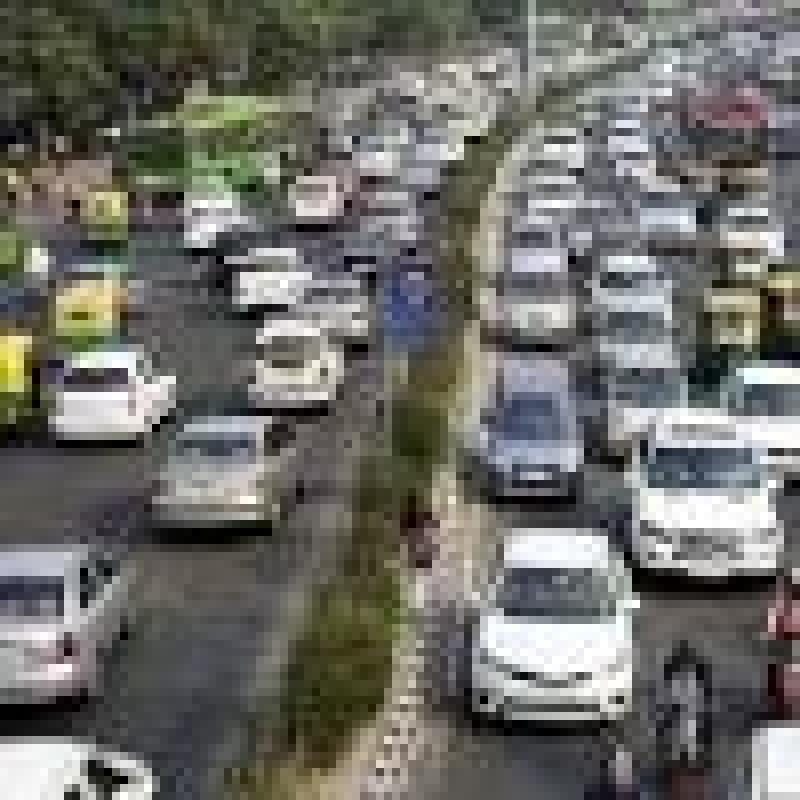bike: (647, 644, 720, 778)
car: (468, 540, 653, 764), (624, 409, 800, 579), (146, 404, 316, 528), (482, 355, 606, 484), (35, 351, 186, 441), (486, 234, 585, 350), (602, 316, 682, 426), (251, 314, 334, 399)
